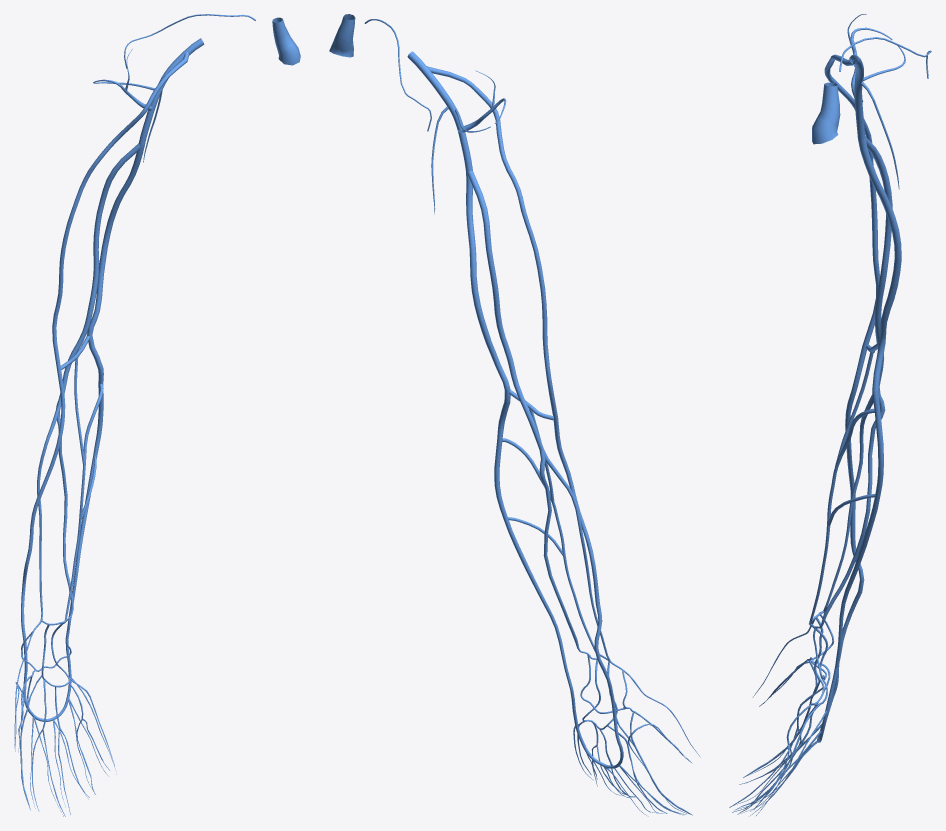
Rendered from veins.glb.
The picture shows the model from 3 angles, left to right: view 1: azimuth 30°, elevation 25°; view 2: azimuth 150°, elevation 25°; view 3: azimuth 270°, elevation 25°; orthographic projection. The views are drawn at different scales.
Parts seen in each view (by area): view 1: Cephalic vein.r.001, Basilic vein.r.001, Palmar digital veins.r.001, Brachial veins.r.001, Dorsal digital veins of hand.r.001, Median antebrachial vein.r.001, Right brachiocephalic vein.001, Radial veins.r.001, Axillary vein.r.001, Ulnar veins.r.001, Median cubital vein.r.001; view 2: Cephalic vein.r.001, Basilic vein.r.001, Brachial veins.r.001, Palmar digital veins.r.001, Axillary vein.r.001, Median antebrachial vein.r.001, Dorsal digital veins of hand.r.001, Ulnar veins.r.001, Radial veins.r.001, Right brachiocephalic vein.001; view 3: Basilic vein.r.001, Cephalic vein.r.001, Palmar digital veins.r.001, Brachial veins.r.001, Right brachiocephalic vein.001, Median antebrachial vein.r.001, Dorsal digital veins of hand.r.001, Ulnar veins.r.001, Radial veins.r.001, Axillary vein.r.001, Median cubital vein.r.001, Superficial venous palmar arch.r.001 (+1 smaller).
Part boxes in pixels (left/top/right/bottom): Cephalic vein.r.001: left=21, top=52, right=189, bottom=663; Basilic vein.r.001: left=65, top=145, right=144, bottom=639; Palmar digital veins.r.001: left=18, top=669, right=114, bottom=816; Brachial veins.r.001: left=62, top=143, right=141, bottom=392; Dorsal digital veins of hand.r.001: left=14, top=629, right=116, bottom=816; Median antebrachial vein.r.001: left=41, top=384, right=103, bottom=625; Right brachiocephalic vein.001: left=272, top=17, right=300, bottom=65; Radial veins.r.001: left=34, top=393, right=61, bottom=629; Axillary vein.r.001: left=138, top=38, right=204, bottom=145; Ulnar veins.r.001: left=56, top=397, right=73, bottom=621; Median cubital vein.r.001: left=60, top=335, right=89, bottom=465; Cephalic vein.r.001: left=427, top=66, right=616, bottom=717; Basilic vein.r.001: left=466, top=171, right=573, bottom=690; Brachial veins.r.001: left=467, top=170, right=543, bottom=450; Palmar digital veins.r.001: left=577, top=707, right=692, bottom=815; Axillary vein.r.001: left=407, top=51, right=472, bottom=171; Median antebrachial vein.r.001: left=502, top=438, right=608, bottom=660; Dorsal digital veins of hand.r.001: left=573, top=668, right=700, bottom=816; Ulnar veins.r.001: left=539, top=450, right=596, bottom=659; Radial veins.r.001: left=543, top=449, right=621, bottom=669; Right brachiocephalic vein.001: left=329, top=14, right=355, bottom=57; Basilic vein.r.001: left=835, top=137, right=901, bottom=667; Cephalic vein.r.001: left=824, top=54, right=879, bottom=660; Palmar digital veins.r.001: left=729, top=657, right=822, bottom=813; Brachial veins.r.001: left=865, top=136, right=892, bottom=387; Right brachiocephalic vein.001: left=812, top=82, right=840, bottom=144; Median antebrachial vein.r.001: left=809, top=408, right=875, bottom=627; Dorsal digital veins of hand.r.001: left=734, top=619, right=830, bottom=816; Ulnar veins.r.001: left=813, top=387, right=885, bottom=629; Radial veins.r.001: left=819, top=394, right=873, bottom=612; Axillary vein.r.001: left=849, top=55, right=865, bottom=139; Median cubital vein.r.001: left=835, top=342, right=878, bottom=467; Superficial venous palmar arch.r.001: left=811, top=617, right=828, bottom=705.
Bounding box in the file's own units: 0.3272 × 0.7146 × 0.1474.
